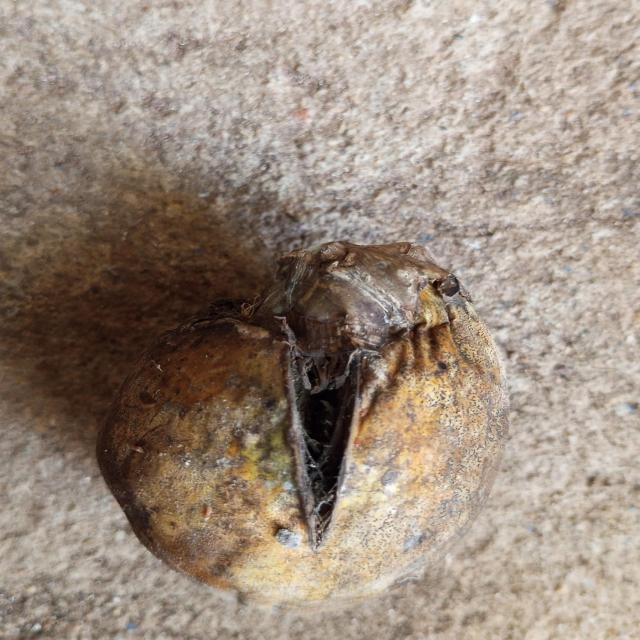damaged: (97, 241, 508, 602)
